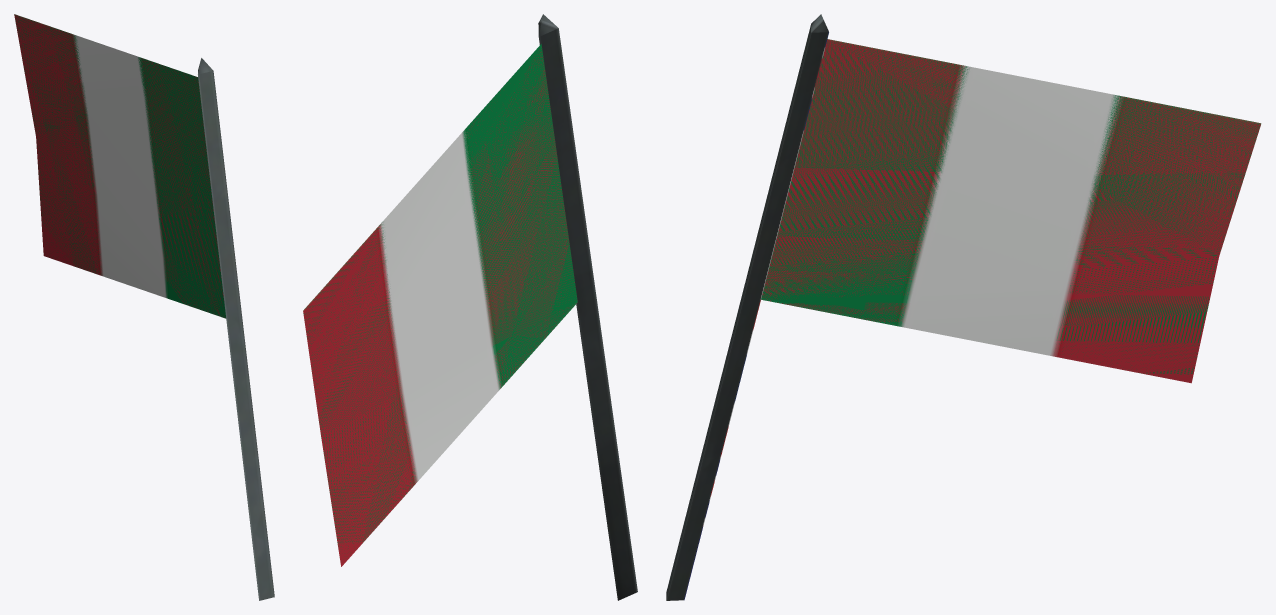
The model's file is A2_S1M1_0001_FlagCupcakes_FLAG_Italy.fbx.
The picture shows the model from 3 angles, left to right: view 1: azimuth 30°, elevation 25°; view 2: azimuth 150°, elevation 25°; view 3: azimuth 270°, elevation 25°; orthographic projection. The views are drawn at different scales.
Parts seen in each view (by area): view 1: Cupcake_FLAG_Italy; view 2: Cupcake_FLAG_Italy; view 3: Cupcake_FLAG_Italy.
Boxes of the visible parts, x1,y1,x2,y2 form: Cupcake_FLAG_Italy: (14, 14, 274, 600); Cupcake_FLAG_Italy: (303, 14, 637, 600); Cupcake_FLAG_Italy: (666, 14, 1261, 600).
Bounding box in the file's own units: 0.2702 × 8.15 × 7.5.
1 material, 1 textured.
